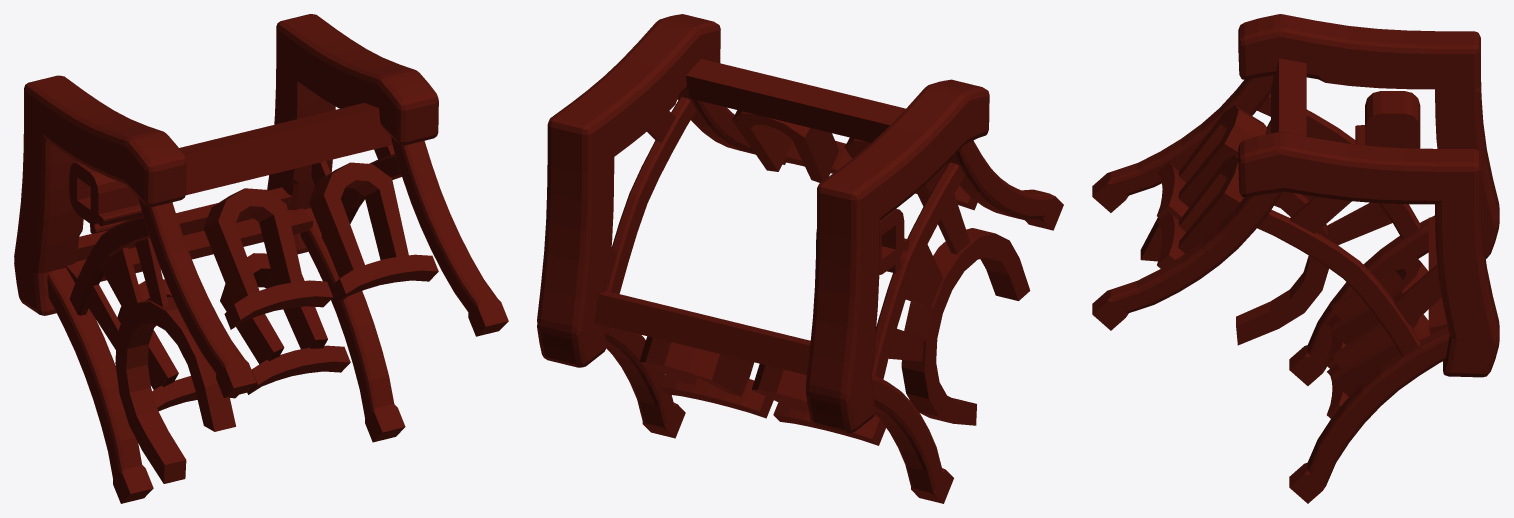
3 renders of one model, left to right at view 1: azimuth 30°, elevation 25°; view 2: azimuth 150°, elevation 25°; view 3: azimuth 270°, elevation 25°, orthographic. The views are drawn at different scales.
Visible parts, largest first — view 1: House_Border_(Tralis); view 2: House_Border_(Tralis); view 3: House_Border_(Tralis).
Boxes of the visible parts, x1,y1,x2,y2 form: House_Border_(Tralis): [14, 14, 508, 503]; House_Border_(Tralis): [537, 14, 1063, 503]; House_Border_(Tralis): [1092, 14, 1499, 503].
Size of the model in its own units: 14.14 by 17.29 by 17.76.
